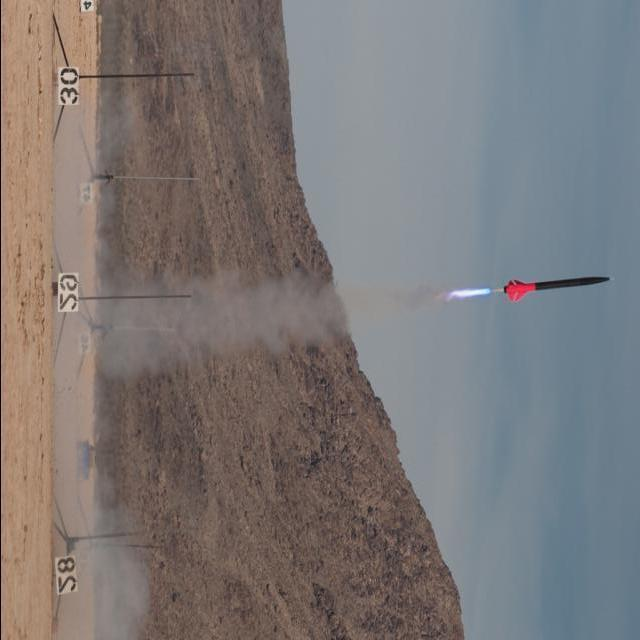missile: (502, 270, 614, 300)
